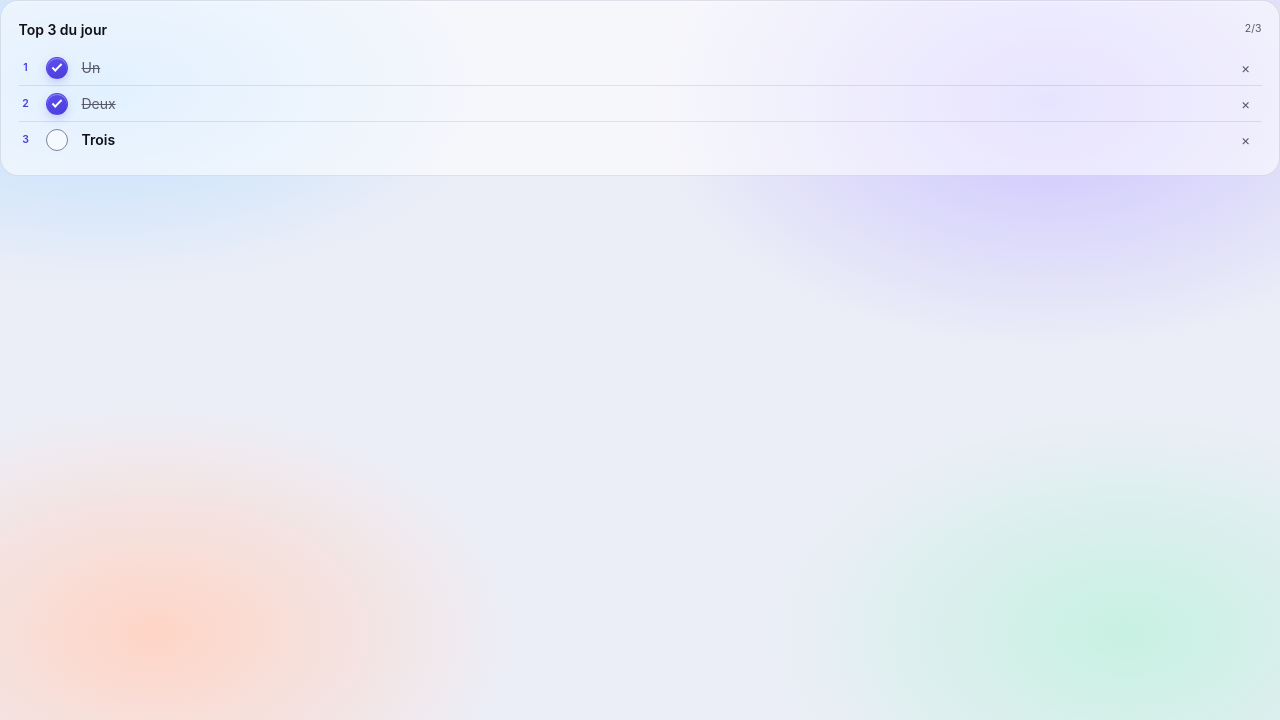
Scenario: TopThree › félicite quand les 3 priorités sont faites, sans plus rien proposer
Click the checkbox named "Terminer « Trois »" next to "Trois": (57, 140) [46,128,68,150]
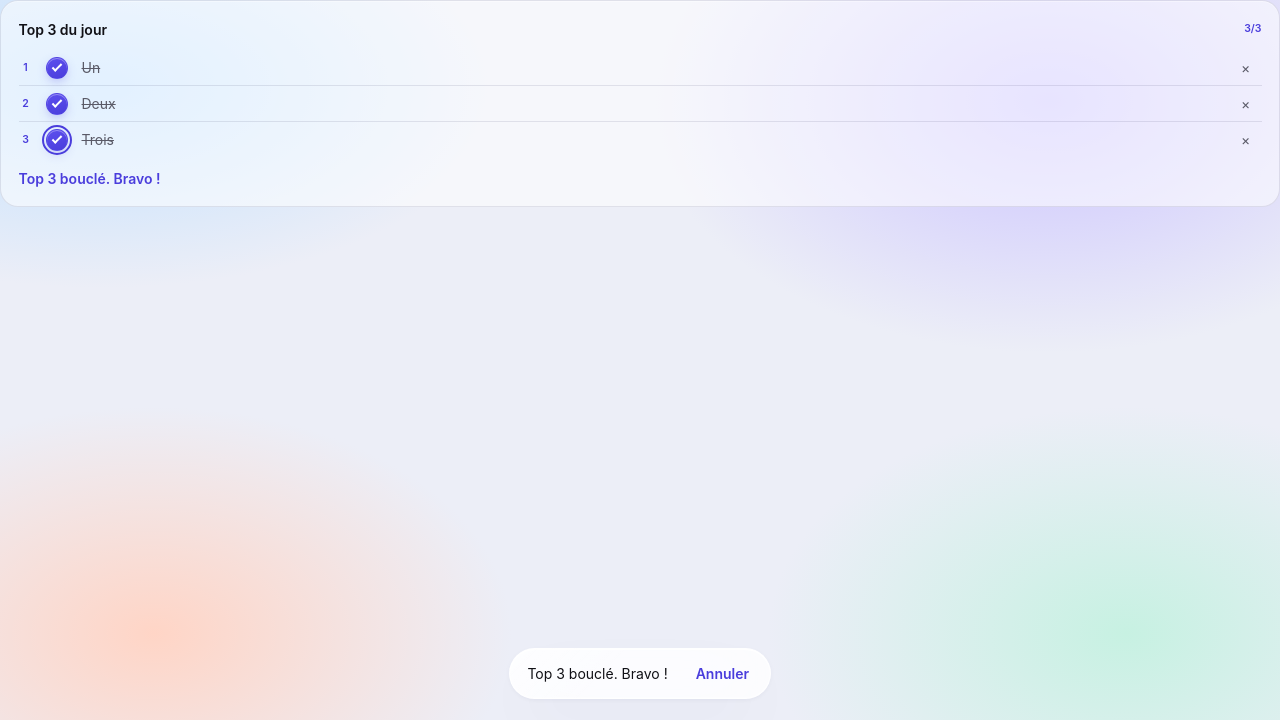
Check: the text "3/3" is shown, box [1244,22,1262,36]
